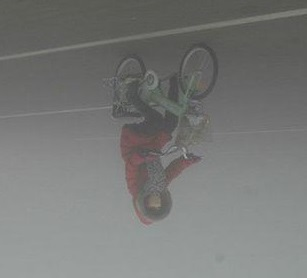person: (107, 49, 222, 237)
